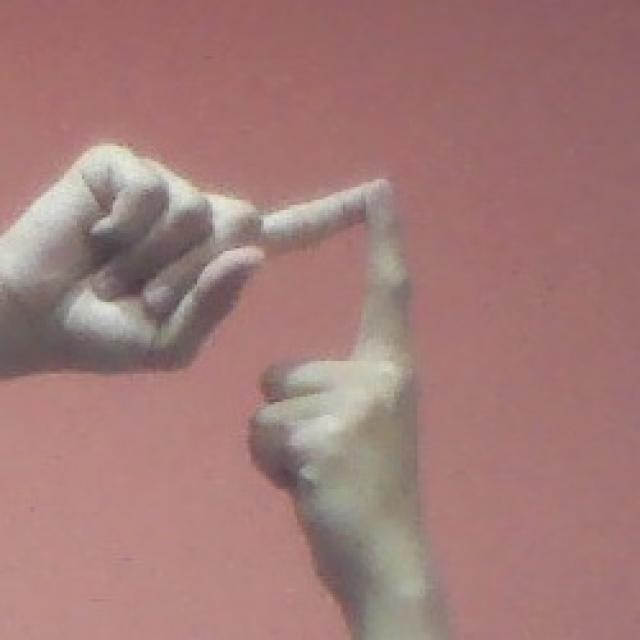Alphabet-E: (0, 143, 447, 640)
